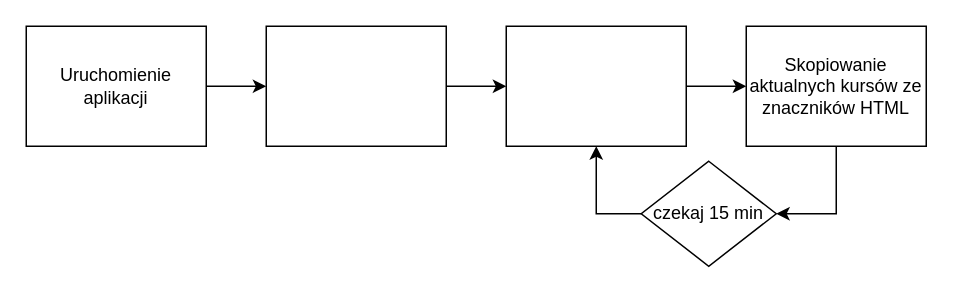
Some shapes in this 953 by 293 pixel diagram are drawn without their labels. The centre of each missing label's shape, as x and y in pixels:
Inicjalizacja encji kursów walut i akcji: the point at 355,85
Pobranie stron wyszukiwania akcji oraz walut z przeglądarki Google: the point at 595,85
